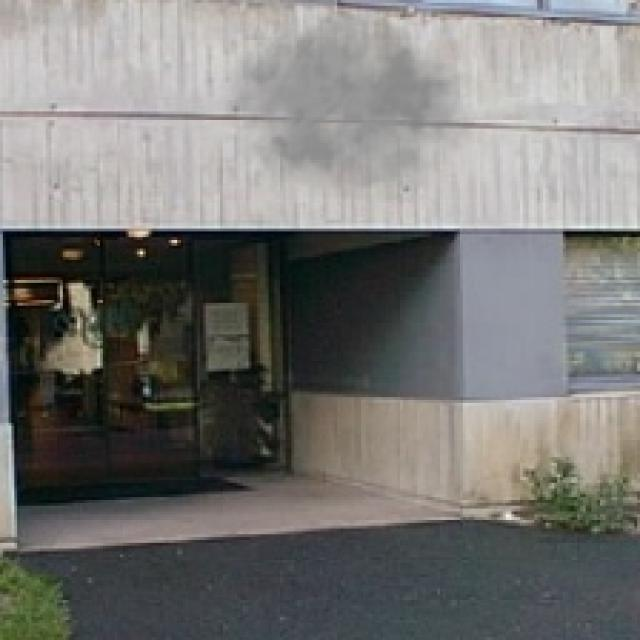Smoke: (223, 12, 486, 215)
